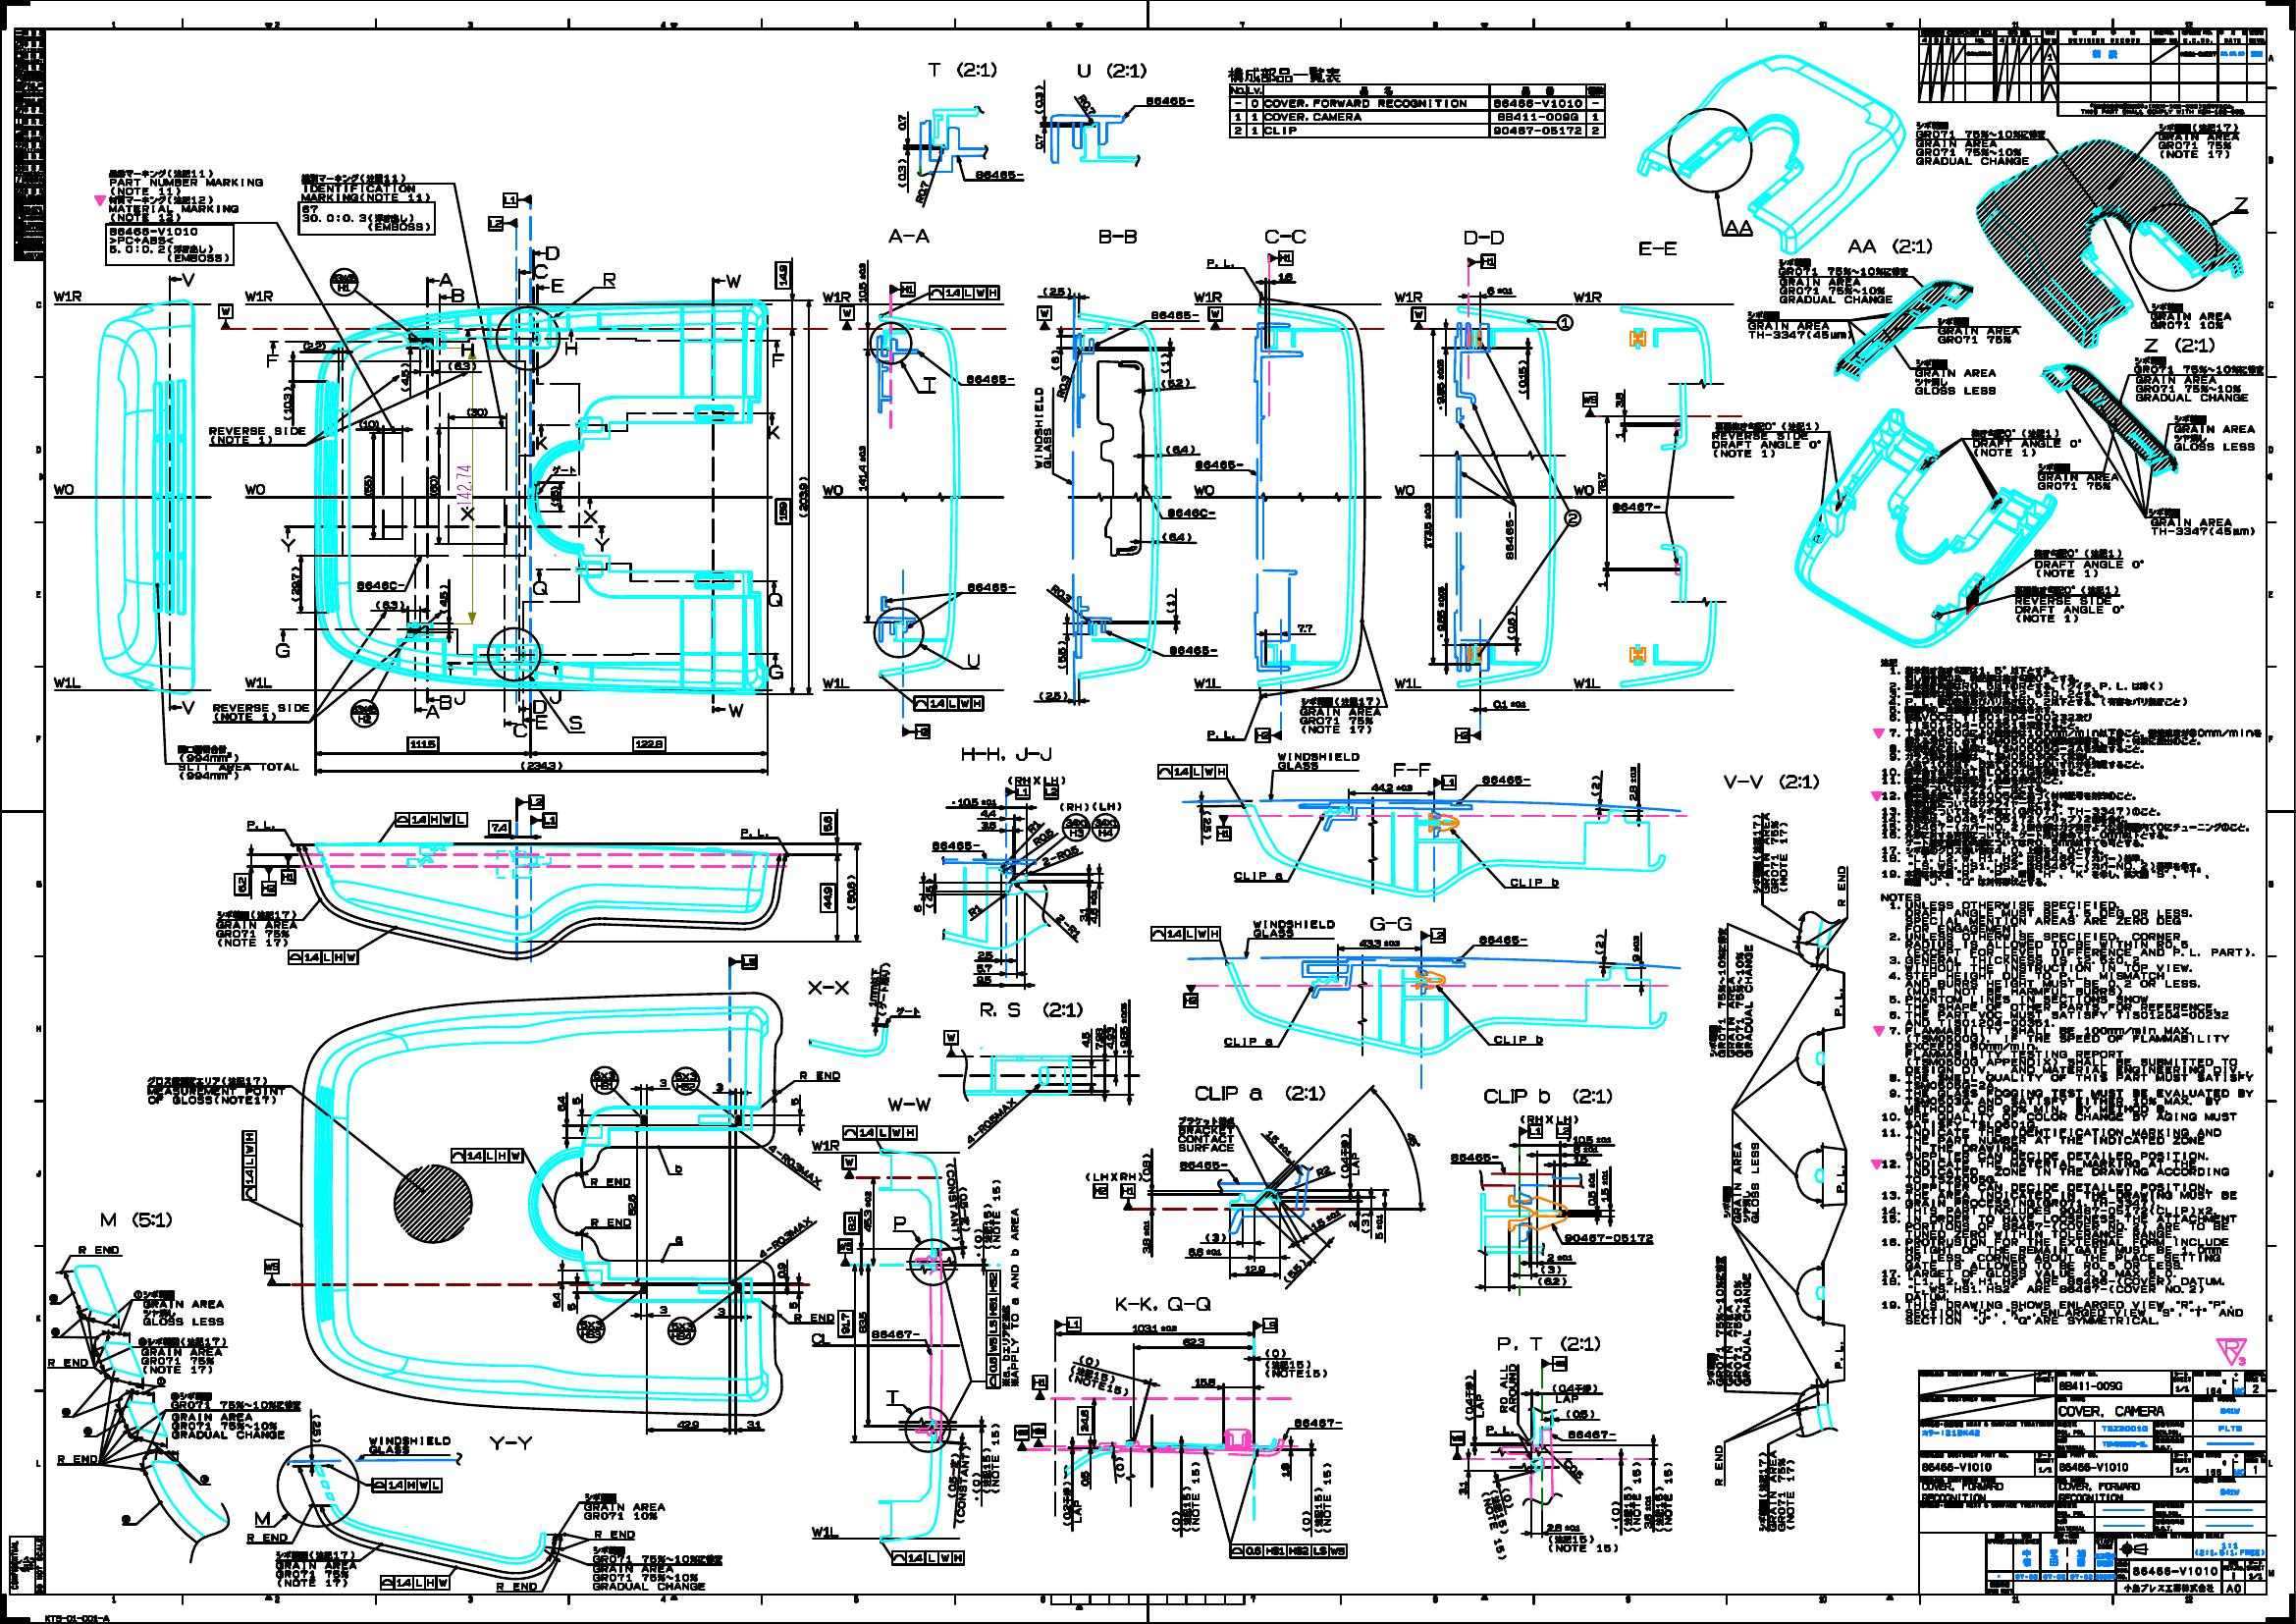anntotation_text: (1871, 889, 2249, 1325), (1873, 652, 2261, 884), (1224, 65, 1611, 149), (169, 1387, 304, 1443), (1700, 1251, 1755, 1388), (590, 1543, 726, 1594), (1708, 926, 1758, 1060), (1776, 255, 1910, 304), (2131, 355, 2264, 401), (1915, 120, 2048, 165), (105, 223, 237, 265), (1709, 420, 1820, 468), (105, 165, 269, 197), (142, 1074, 288, 1109), (93, 192, 255, 223), (2013, 584, 2127, 624), (1716, 1139, 1765, 1229), (299, 202, 436, 234), (295, 170, 432, 202), (1744, 308, 1852, 346), (1000, 1207, 1022, 1388), (2147, 506, 2259, 541), (1913, 353, 1999, 399), (2032, 548, 2152, 580), (130, 1287, 227, 1325), (272, 1547, 357, 1591), (1971, 425, 2082, 459), (137, 1334, 228, 1374), (1750, 810, 1792, 895), (2175, 411, 2256, 455), (1757, 1448, 1799, 1531), (1295, 698, 1381, 738), (1481, 1083, 1621, 1107), (2155, 123, 2243, 162), (214, 909, 297, 949), (174, 759, 300, 786), (580, 1489, 669, 1524), (1191, 1081, 1328, 1104), (1936, 315, 2024, 348), (2032, 459, 2120, 492), (1058, 801, 1126, 844), (2150, 297, 2231, 332), (975, 998, 1084, 1023), (1082, 1169, 1142, 1209), (206, 422, 307, 445), (1175, 1116, 1235, 1155), (1495, 1332, 1604, 1353), (9, 1536, 47, 1594), (945, 1160, 971, 1243), (1722, 772, 1823, 793), (945, 1445, 971, 1524), (956, 743, 1058, 763), (1031, 387, 1054, 473), (1274, 749, 1360, 772), (1841, 236, 1939, 255), (1514, 1113, 1581, 1141), (365, 1432, 453, 1454), (1230, 1543, 1346, 1559), (209, 705, 313, 722), (926, 56, 1000, 81), (1651, 1461, 1676, 1534), (1253, 916, 1339, 937), (1484, 1492, 1511, 1561), (1310, 1459, 1333, 1536), (980, 1420, 1003, 1497), (1112, 1295, 1212, 1313), (1180, 1457, 1203, 1533), (2140, 334, 2220, 355), (986, 1267, 1000, 1388), (982, 1176, 1005, 1250), (1621, 1459, 1644, 1531), (1073, 60, 1151, 81), (1066, 1369, 1130, 1394), (95, 1209, 174, 1229), (1005, 775, 1065, 800), (1546, 1534, 1620, 1554), (241, 1128, 260, 1202), (379, 1571, 453, 1591), (2210, 1334, 2252, 1367), (1265, 1359, 1328, 1380), (912, 694, 987, 712), (450, 1146, 525, 1164), (866, 961, 889, 1018), (1497, 1360, 1520, 1415), (929, 283, 1000, 301), (369, 1476, 446, 1492), (1059, 1478, 1084, 1527), (1549, 1381, 1602, 1404), (1463, 1373, 1486, 1425), (841, 1125, 917, 1141), (179, 742, 241, 761), (327, 264, 360, 299), (1339, 1134, 1363, 1181), (286, 949, 360, 965), (1563, 1232, 1657, 1244), (395, 810, 467, 826), (1096, 225, 1145, 248), (481, 1432, 538, 1452), (1149, 926, 1224, 940), (889, 1550, 964, 1564), (885, 225, 933, 246), (666, 1315, 697, 1346), (574, 1313, 606, 1345), (882, 1095, 933, 1114), (1158, 765, 1226, 779), (588, 1065, 622, 1093), (348, 698, 381, 726), (1263, 227, 1307, 248), (1456, 228, 1509, 246), (803, 977, 856, 995), (748, 1232, 820, 1244), (757, 1160, 827, 1172), (671, 1065, 699, 1095), (1634, 239, 1681, 257), (1491, 1032, 1548, 1046), (966, 373, 1015, 388), (1163, 504, 1217, 518), (1193, 457, 1247, 471), (952, 1118, 1024, 1128), (44, 1613, 116, 1624), (353, 576, 406, 591), (1231, 868, 1284, 882), (1367, 914, 1412, 930), (1223, 1033, 1274, 1048), (931, 838, 982, 852), (1507, 875, 1565, 888), (278, 852, 299, 886), (1145, 308, 1202, 320), (1165, 643, 1219, 656), (1476, 933, 1530, 946), (798, 1067, 840, 1083), (1565, 1425, 1618, 1438), (1291, 1417, 1344, 1429), (1834, 863, 1848, 909), (1391, 759, 1432, 775), (1481, 773, 1532, 786), (1722, 218, 1757, 236), (244, 1529, 288, 1543), (940, 1026, 959, 1058), (871, 1327, 921, 1339), (590, 1526, 639, 1538), (1180, 982, 1203, 1009), (1142, 95, 1198, 105), (53, 286, 86, 304), (1713, 1443, 1725, 1489), (494, 1580, 539, 1592), (53, 1452, 98, 1464), (820, 290, 856, 306), (1191, 673, 1226, 689), (1504, 506, 1514, 559), (1052, 1315, 1084, 1332), (727, 953, 759, 970), (1029, 1373, 1049, 1401), (973, 169, 1024, 179), (1449, 1151, 1500, 1162), (1391, 288, 1425, 304), (262, 865, 278, 898), (1467, 253, 1497, 271), (51, 670, 81, 687), (966, 582, 1015, 592), (1553, 313, 1578, 334), (1830, 1338, 1845, 1374), (46, 1355, 88, 1367), (1191, 288, 1223, 304), (1613, 501, 1660, 511), (529, 810, 560, 826), (74, 1244, 121, 1255), (487, 214, 518, 230), (1177, 1160, 1233, 1169), (1560, 506, 1583, 527), (546, 274, 569, 295), (242, 482, 272, 497), (820, 675, 850, 691), (887, 281, 917, 297), (1572, 675, 1602, 691), (501, 192, 531, 207), (241, 675, 274, 689), (1203, 726, 1237, 740), (1572, 288, 1606, 302), (1834, 1165, 1848, 1199), (1483, 1422, 1516, 1436), (808, 1526, 841, 1540), (903, 722, 929, 740), (1036, 304, 1054, 330), (1541, 1353, 1567, 1371), (588, 1216, 632, 1227), (1216, 814, 1231, 842), (792, 1311, 834, 1322), (541, 241, 562, 262), (1830, 984, 1843, 1019), (1251, 1318, 1281, 1332), (810, 1137, 840, 1151), (515, 796, 545, 810), (244, 288, 274, 302), (1267, 250, 1293, 265), (1583, 390, 1599, 417), (264, 1260, 279, 1287), (1391, 677, 1425, 689), (244, 817, 278, 830), (508, 721, 529, 740), (2231, 195, 2252, 214), (599, 267, 620, 286), (529, 262, 550, 281), (1207, 306, 1224, 329), (840, 1156, 857, 1179), (1254, 728, 1282, 742), (1451, 1431, 1465, 1459), (1205, 255, 1237, 267), (1014, 1425, 1029, 1450), (1031, 1424, 1047, 1448), (740, 826, 771, 838), (53, 483, 77, 499), (218, 304, 234, 329), (588, 1176, 632, 1185), (566, 714, 585, 733), (253, 1508, 272, 1527), (455, 689, 473, 710), (921, 373, 938, 394), (840, 304, 854, 330), (1432, 775, 1458, 789), (436, 696, 457, 714), (838, 1237, 850, 1267), (724, 701, 747, 717), (808, 1330, 833, 1345), (550, 464, 578, 476), (562, 339, 581, 357), (891, 1213, 908, 1232), (179, 269, 197, 288), (1393, 482, 1414, 497), (1455, 729, 1481, 742), (1419, 928, 1446, 940), (768, 664, 785, 682), (766, 591, 783, 608), (531, 578, 548, 596), (279, 538, 297, 555), (436, 271, 453, 288), (531, 714, 550, 729), (531, 698, 546, 717), (594, 538, 613, 554), (274, 640, 290, 659), (458, 341, 478, 357), (532, 434, 548, 453), (724, 274, 743, 290), (771, 352, 787, 371), (1191, 483, 1216, 496), (820, 485, 848, 496), (1412, 308, 1426, 329), (1574, 483, 1597, 496), (581, 508, 599, 524), (460, 506, 478, 522), (179, 698, 195, 715), (450, 285, 466, 302), (966, 650, 982, 666), (423, 705, 439, 721), (264, 353, 281, 367), (766, 425, 780, 439), (887, 1388, 899, 1404), (60, 1406, 74, 1418), (81, 1425, 93, 1438), (153, 1376, 169, 1385), (199, 1475, 211, 1485), (47, 1292, 58, 1302), (119, 1513, 132, 1522), (47, 1327, 60, 1334)
dimension_text: (455, 462, 471, 506), (1117, 998, 1130, 1053), (520, 759, 566, 773), (404, 735, 439, 752), (631, 735, 666, 752), (1358, 935, 1402, 949), (1435, 357, 1446, 413), (775, 258, 792, 292), (1367, 780, 1414, 793), (1038, 849, 1086, 861), (1075, 1404, 1094, 1434), (856, 441, 866, 494), (288, 566, 302, 605), (773, 497, 792, 526), (845, 874, 859, 912), (1274, 1267, 1312, 1281), (861, 1188, 873, 1232), (949, 796, 1000, 807), (1421, 501, 1432, 550), (1437, 584, 1446, 642), (1258, 1137, 1298, 1149), (798, 475, 808, 520), (1184, 1244, 1223, 1257), (820, 882, 836, 912), (281, 383, 293, 420), (1200, 808, 1214, 840), (446, 360, 481, 373), (1040, 283, 1075, 295), (1586, 1171, 1597, 1211), (1572, 1134, 1613, 1144), (836, 1309, 852, 1336), (1130, 1323, 1177, 1332), (1033, 83, 1045, 116), (1036, 689, 1070, 701), (971, 1227, 984, 1260), (1627, 765, 1637, 803), (1305, 1216, 1344, 1227), (1599, 1167, 1609, 1206), (1028, 831, 1056, 845), (437, 582, 450, 613), (399, 360, 411, 392), (896, 156, 908, 188), (1159, 376, 1191, 388), (1056, 638, 1068, 670), (820, 810, 836, 835), (488, 819, 513, 835), (234, 872, 249, 896), (970, 1471, 982, 1503), (1609, 1497, 1621, 1529), (1546, 1520, 1583, 1531), (857, 262, 866, 306), (372, 598, 408, 608), (915, 179, 929, 206), (1298, 1508, 1312, 1534), (1051, 923, 1086, 933), (1242, 1262, 1268, 1276), (1484, 283, 1514, 295), (843, 1211, 859, 1234), (1159, 531, 1193, 541), (1505, 608, 1516, 642), (1630, 933, 1641, 967), (1058, 371, 1070, 399), (1047, 587, 1075, 599), (1562, 1466, 1590, 1478), (1490, 700, 1528, 708), (1179, 1336, 1210, 1346), (924, 877, 935, 909), (1565, 1408, 1597, 1418), (464, 406, 490, 418), (1073, 98, 1100, 111), (1518, 359, 1527, 395), (1089, 888, 1098, 924), (1142, 1218, 1151, 1255), (1572, 1142, 1599, 1155), (1643, 1494, 1651, 1531), (357, 417, 379, 431), (555, 1091, 569, 1114), (1203, 1229, 1226, 1243), (1537, 1276, 1567, 1287), (362, 473, 374, 497), (1263, 1346, 1288, 1359), (1170, 1510, 1182, 1534), (1360, 1209, 1372, 1234), (1597, 469, 1607, 497), (1105, 1025, 1116, 1053), (1374, 1213, 1384, 1241), (1158, 352, 1170, 374), (1114, 1455, 1126, 1478), (300, 339, 327, 350), (1165, 445, 1196, 453), (1191, 1376, 1217, 1387), (1142, 1151, 1151, 1183), (1022, 819, 1042, 833), (1033, 132, 1045, 153), (627, 1192, 638, 1216), (1590, 773, 1600, 798), (1593, 932, 1604, 956), (1079, 1028, 1091, 1049), (1094, 1026, 1105, 1051), (1497, 1494, 1521, 1504), (429, 473, 439, 496), (896, 112, 906, 135), (1049, 348, 1059, 371), (1165, 591, 1175, 613), (1456, 1478, 1469, 1497), (550, 1290, 562, 1309), (1613, 392, 1625, 411), (978, 807, 998, 819), (1546, 1251, 1572, 1260), (1079, 1355, 1100, 1366), (550, 483, 559, 508), (675, 1420, 699, 1429), (1079, 1469, 1091, 1487), (975, 961, 993, 974), (1404, 1134, 1421, 1146), (1539, 1265, 1563, 1274), (776, 1260, 787, 1280), (1314, 1165, 1333, 1176), (857, 1309, 866, 1332), (1279, 1461, 1291, 1476), (1296, 622, 1314, 633), (1275, 271, 1293, 281), (978, 817, 996, 828), (745, 1418, 761, 1429), (968, 905, 984, 916), (1079, 907, 1087, 924), (975, 951, 993, 960), (975, 975, 993, 984), (1572, 1153, 1590, 1162), (657, 1077, 669, 1090), (713, 1081, 726, 1091), (673, 1162, 683, 1174), (657, 1304, 669, 1315), (715, 1306, 726, 1318), (789, 1097, 799, 1107), (571, 1093, 581, 1104), (673, 1234, 683, 1244), (1347, 1218, 1358, 1229), (566, 1302, 578, 1311), (1597, 580, 1607, 589), (912, 902, 922, 910), (787, 1301, 798, 1308)
object: (297, 991, 783, 1417), (307, 297, 773, 698), (1785, 401, 2059, 649), (288, 840, 791, 961), (1975, 137, 2249, 350), (1634, 47, 1908, 255), (56, 1262, 228, 1547), (1214, 956, 1671, 1058), (1237, 796, 1669, 902), (1253, 302, 1367, 698), (93, 295, 199, 698), (1453, 302, 1558, 692), (1616, 302, 1718, 685), (1070, 311, 1163, 691), (293, 1461, 566, 1584), (875, 311, 964, 677), (873, 1137, 947, 1541), (1792, 907, 1848, 1436), (2040, 359, 2182, 480), (1827, 278, 1973, 383), (1063, 1425, 1288, 1485), (942, 854, 1049, 951), (1479, 1167, 1583, 1258), (1214, 1162, 1314, 1236), (1045, 111, 1142, 172), (915, 104, 989, 179), (957, 1056, 1079, 1097), (1500, 1408, 1555, 1497), (806, 1023, 892, 1060)
title_block: (1917, 1367, 2268, 1594), (1918, 28, 2266, 116), (14, 26, 44, 262)
